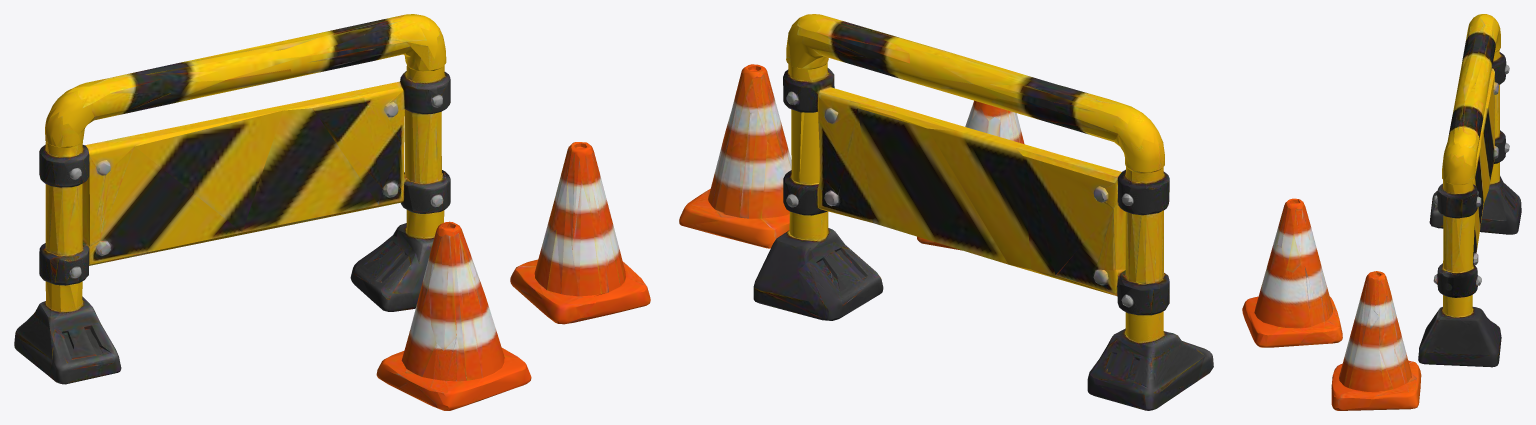
The model's file is prop_cones.glb.
The picture shows the model from 3 angles, left to right: view 1: azimuth 30°, elevation 25°; view 2: azimuth 150°, elevation 25°; view 3: azimuth 270°, elevation 25°; orthographic projection. The views are drawn at different scales.
Bounding box in the file's own units: 1.9 × 0.9252 × 1.08.
Materials: 1 (1 with a texture image).
